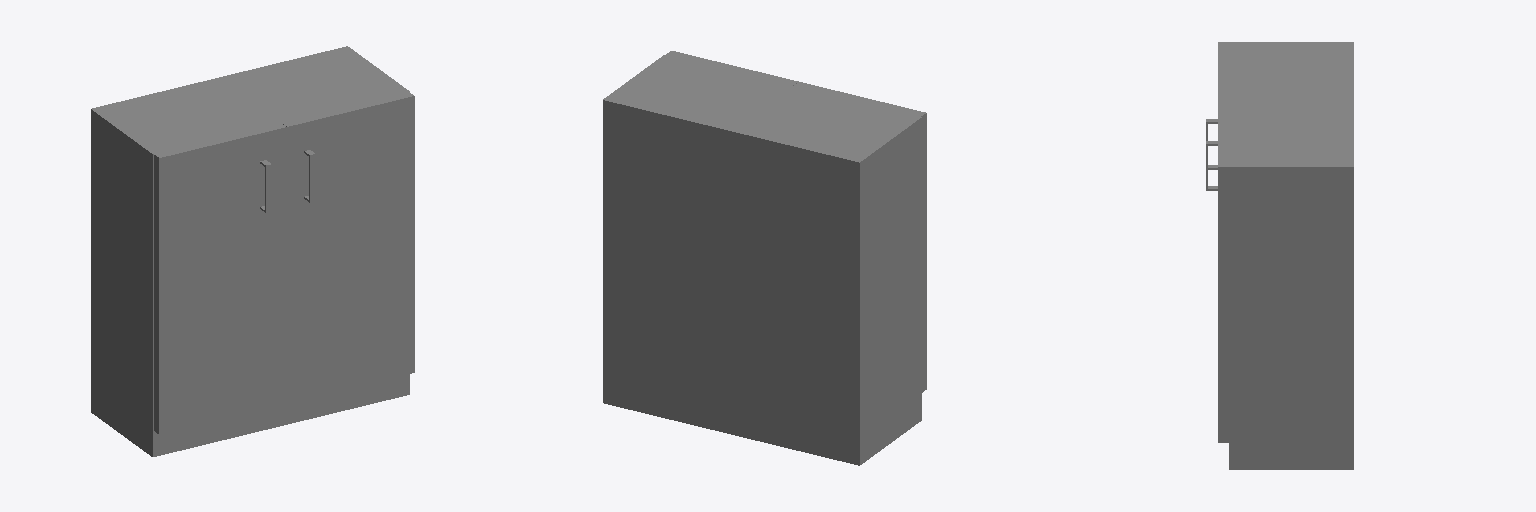
File: Cleaning_box.obj
The picture shows the model from 3 angles: view 1: azimuth 30°, elevation 25°; view 2: azimuth 150°, elevation 25°; view 3: azimuth 270°, elevation 25°; orthographic projection.
Visible parts, largest first — view 1: ?????; view 2: ?????; view 3: ?????.
Boxes of the visible parts, box(x1,y1,x2,y2) form: ?????: box(91, 46, 414, 456); ?????: box(603, 51, 926, 465); ?????: box(1206, 42, 1353, 469).
Size of the model in its own units: 1.17 by 1.31 by 0.5781.